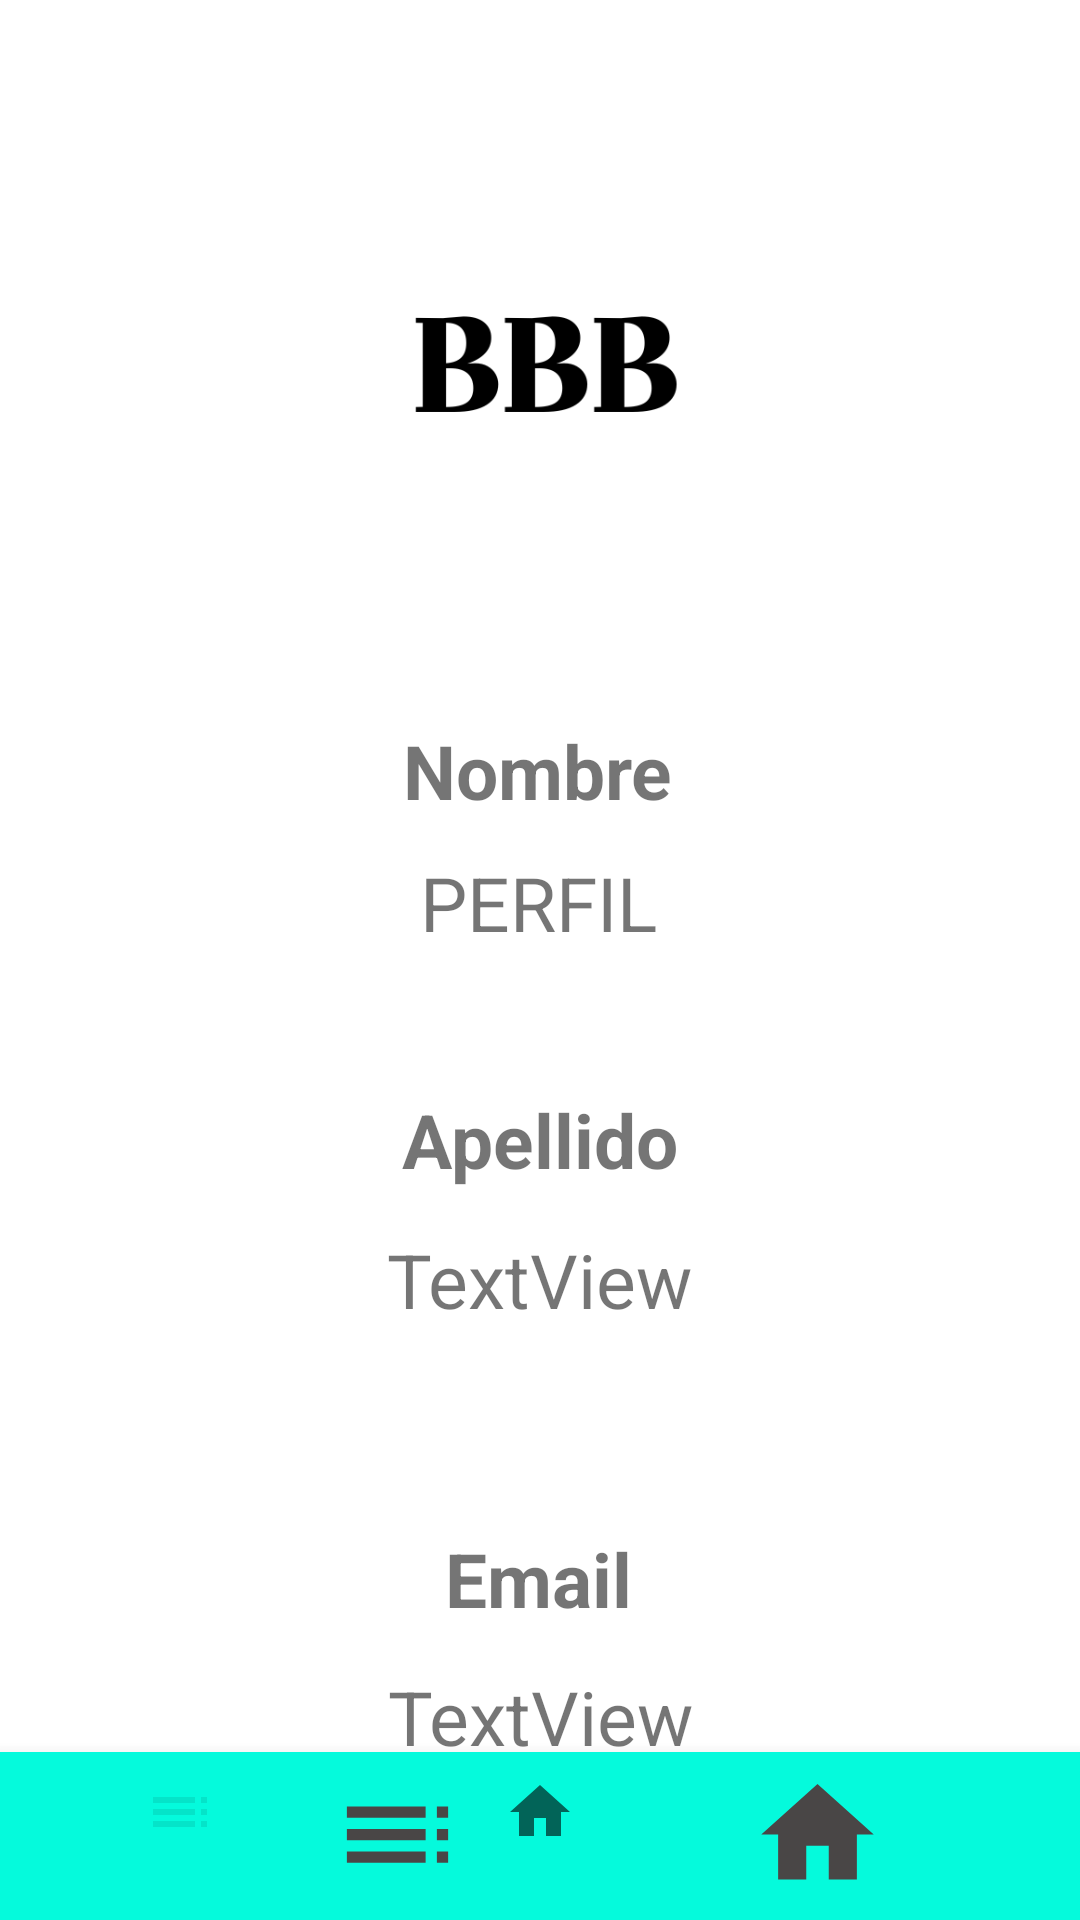

Where icons sit on this 1080 × 1920 app screen, as (x1, y1, x2, y2):
home: (761, 1784, 874, 1880)
toc: (347, 1806, 448, 1863)
